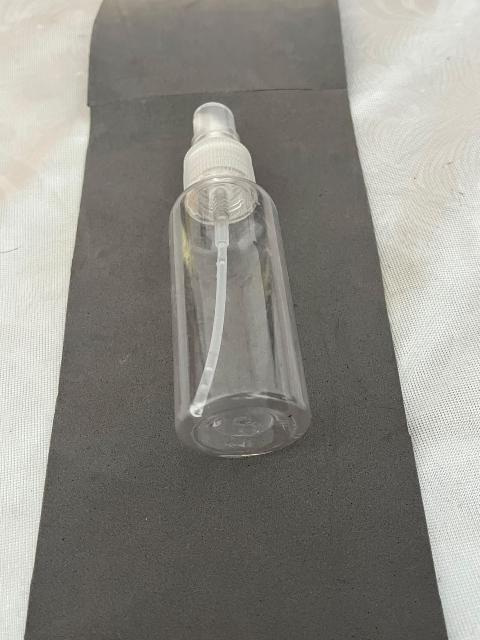PET: (139, 87, 343, 478)
